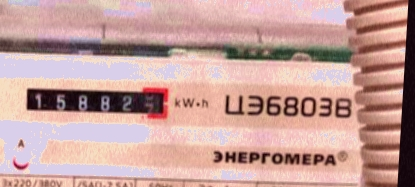1: (32, 91, 43, 110)
2: (121, 94, 133, 111)
5: (53, 93, 66, 110)
7: (142, 101, 154, 115)
8: (76, 93, 88, 111), (99, 94, 110, 111)
screen: (18, 77, 175, 124)
